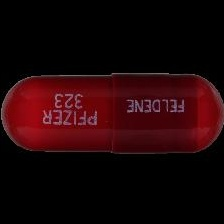59762-0145: (0, 0, 224, 224)
